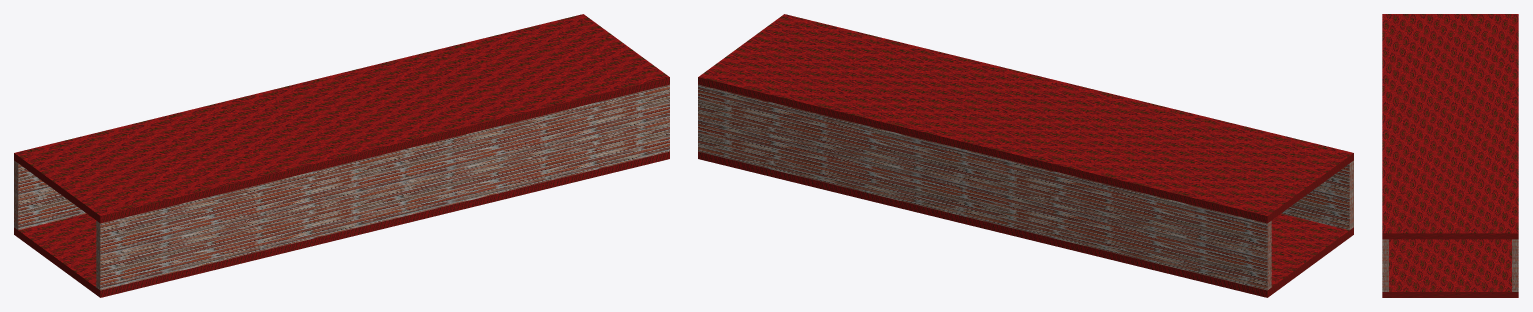
3 renders of one model, left to right at view 1: azimuth 30°, elevation 25°; view 2: azimuth 150°, elevation 25°; view 3: azimuth 270°, elevation 25°, orthographic. The views are drawn at different scales.
Visible parts, largest first — view 1: HallRoof, HallWall2, HallFloor, HallWall1; view 2: HallRoof, HallWall1, HallFloor, HallWall2; view 3: HallRoof, HallFloor, HallWall2, HallWall1.
Boxes of the visible parts, x1,y1,x2,y2 form: HallRoof: (14,14,669,223); HallWall2: (96,84,669,290); HallFloor: (14,151,669,297); HallWall1: (14,160,86,230); HallRoof: (698,14,1353,223); HallWall1: (698,84,1271,290); HallFloor: (698,151,1353,297); HallWall2: (1281,160,1353,230); HallRoof: (1382,14,1518,239); HallFloor: (1382,239,1518,297); HallWall2: (1382,239,1388,291); HallWall1: (1512,239,1518,291).
Bounding box in the file's own units: 40 × 5.5 × 10.5.
